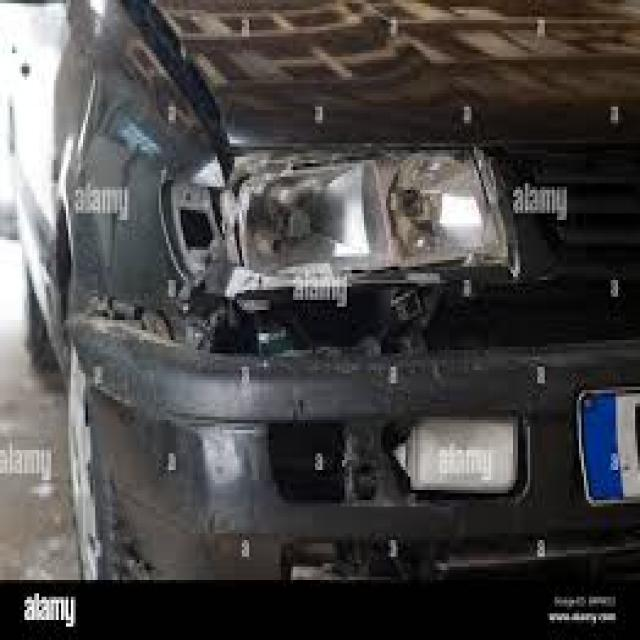damaged-head-light: (217, 145, 522, 294)
